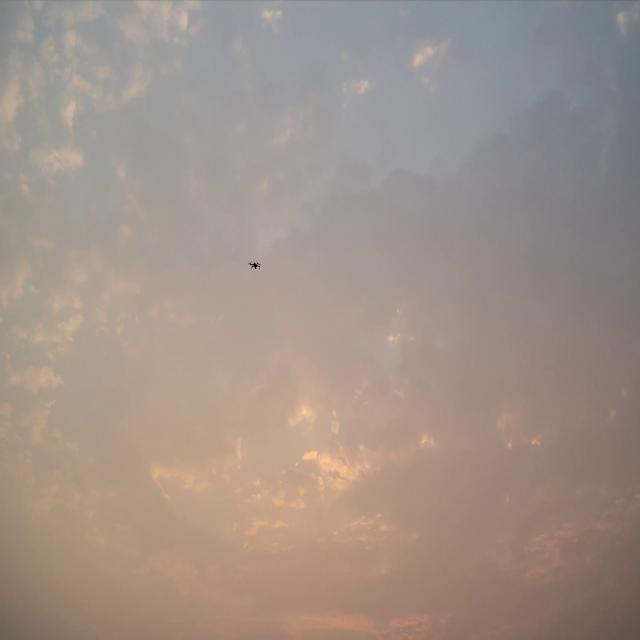drone: (248, 260, 261, 270)
